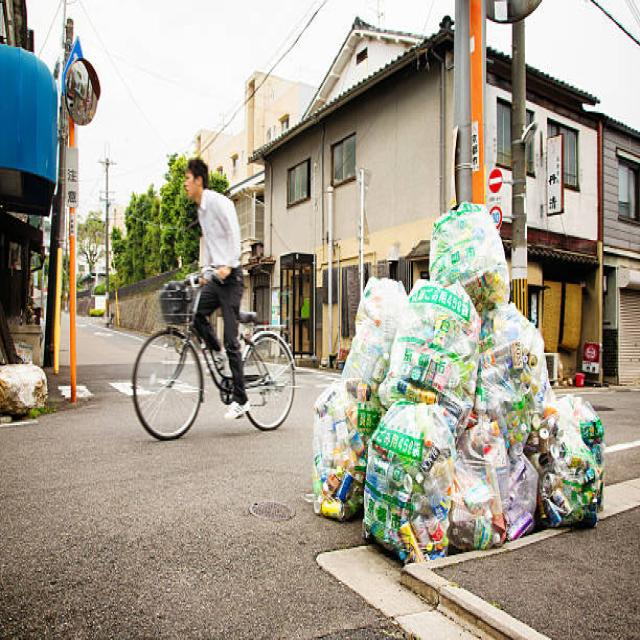trash: (308, 168, 571, 549)
